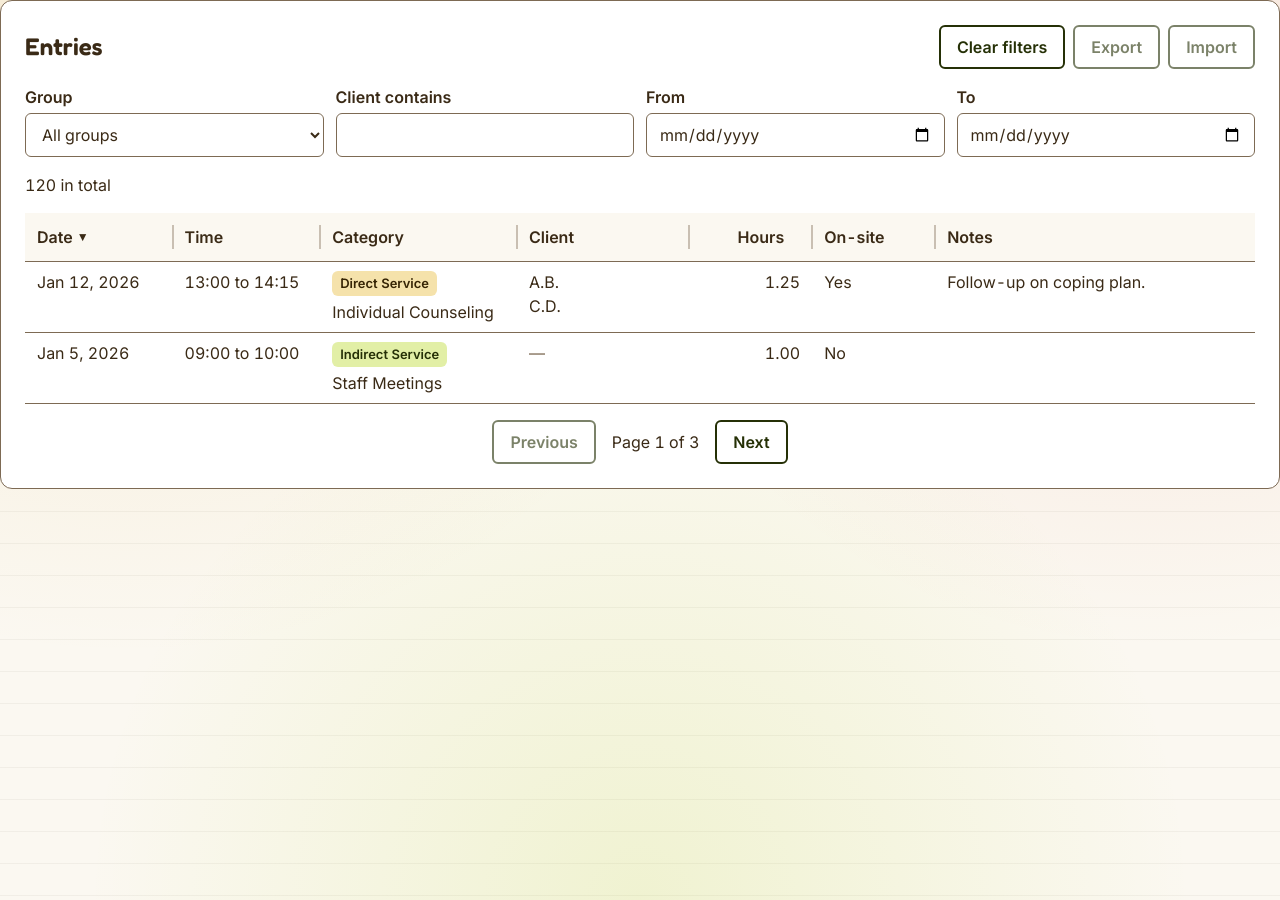
pagination › moves between pages against the API and announces the position
Expected: the table is shown, [25, 213, 1255, 404]
Expected: the text "Page 1 of 3" is shown, [612, 430, 699, 454]
Step 1. Click the button "Next" → click(751, 442), box [715, 420, 788, 464]
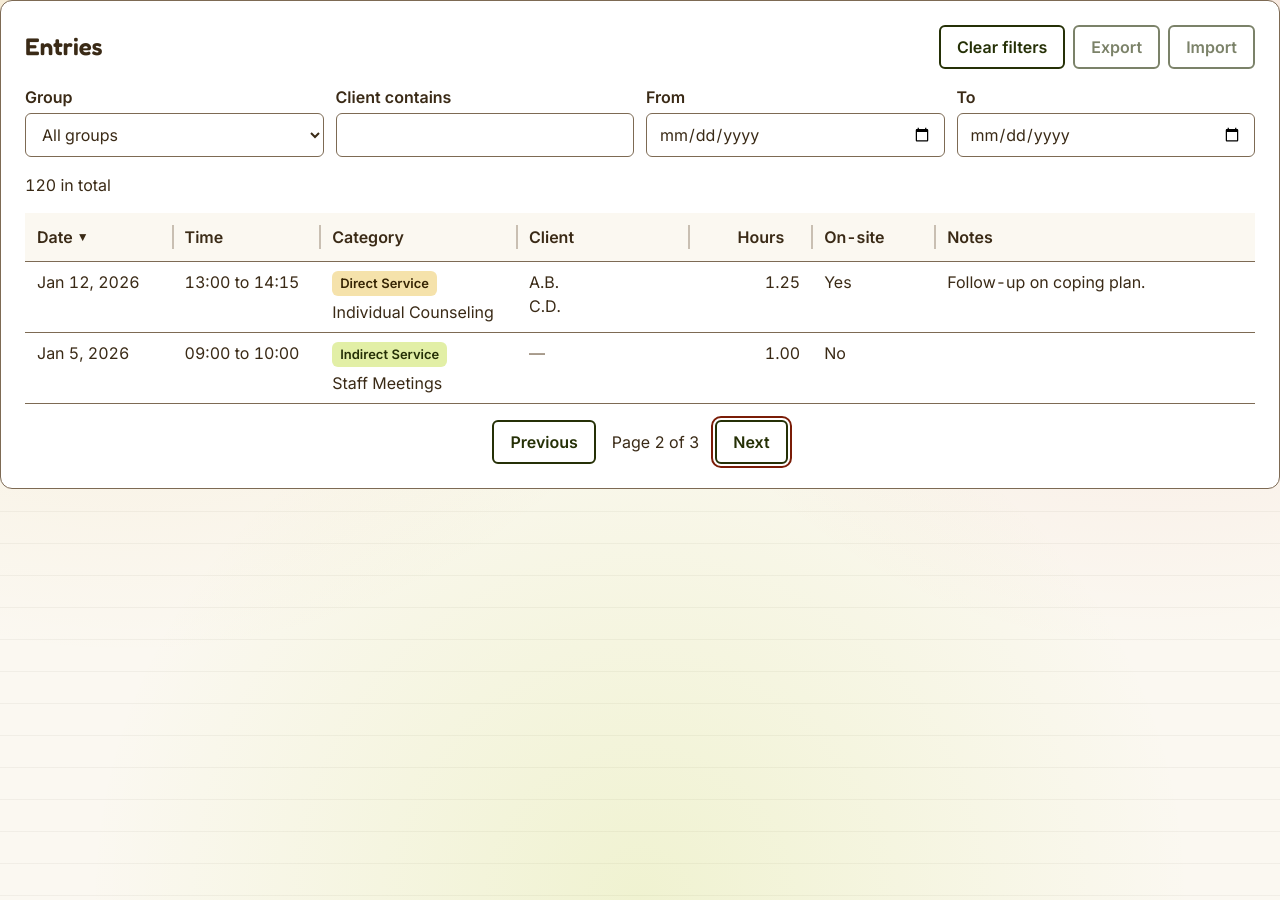
Now the text "Page 2 of 3" is shown, box [612, 430, 699, 454]
Now the button "Previous" is enabled, box [492, 420, 596, 464]
Step 2. Click the button "Next" → click(751, 442), box [715, 420, 788, 464]
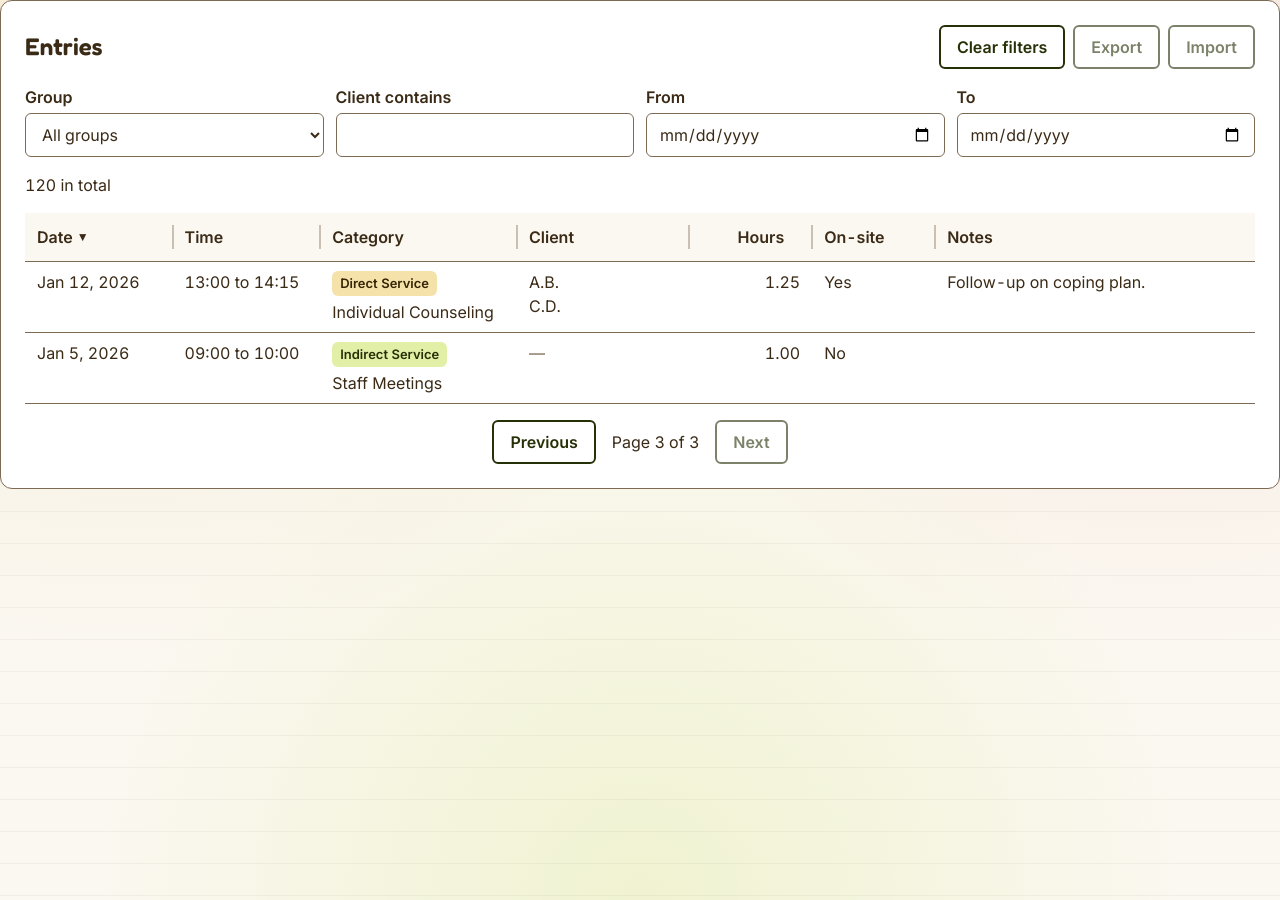
Now the text "Page 3 of 3" is shown, box [612, 430, 699, 454]
Now the button "Next" is disabled, box [715, 420, 788, 464]
Step 3. Click the button "Previous" → click(544, 442), box [492, 420, 596, 464]
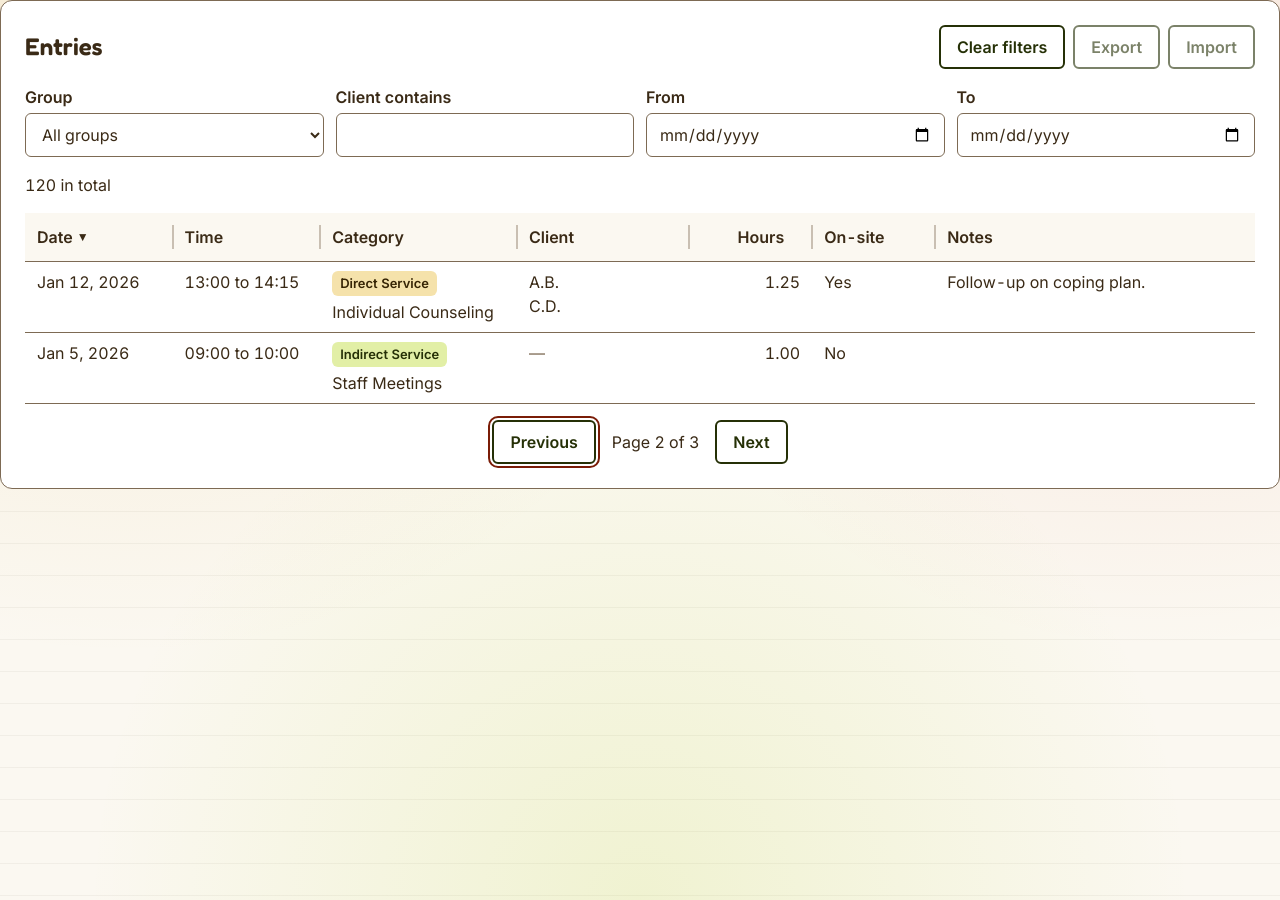
Now the text "Page 2 of 3" is shown, box [612, 430, 699, 454]
